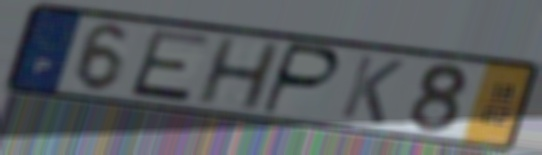6: (72, 21, 132, 95)
8: (406, 61, 473, 136)
E: (125, 27, 215, 105)
H: (192, 36, 283, 113)
K: (336, 52, 409, 128)
P: (257, 40, 344, 118)
